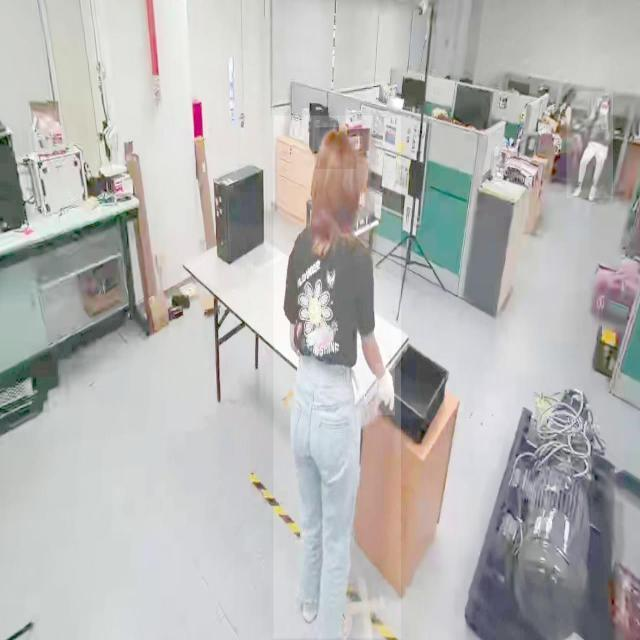gloves: (376, 364, 396, 416)
